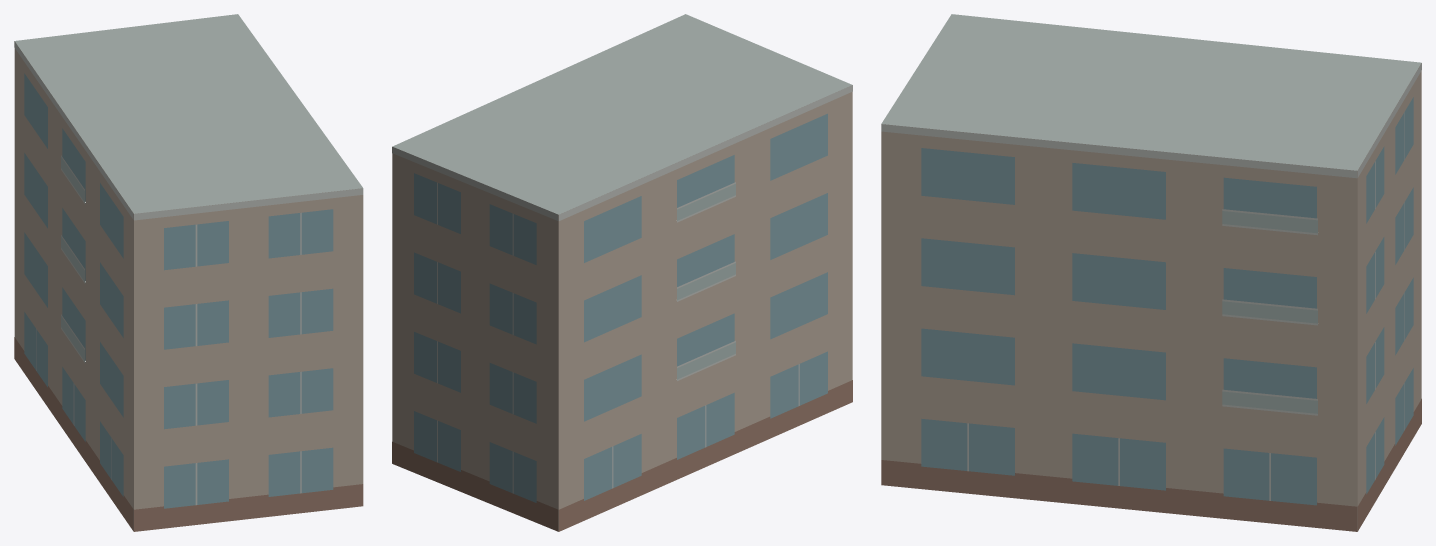
The model's file is survey-upis-32921176.glb.
The picture shows the model from 3 angles, left to right: view 1: azimuth 30°, elevation 25°; view 2: azimuth 150°, elevation 25°; view 3: azimuth 270°, elevation 25°; orthographic projection. The views are drawn at different scales.
Parts seen in each view (by area): view 1: survey-upis-32921176.tmp; view 2: survey-upis-32921176.tmp; view 3: survey-upis-32921176.tmp.
Part boxes in pixels (<box>): survey-upis-32921176.tmp: <box>14,14,363,531</box>; survey-upis-32921176.tmp: <box>392,14,852,531</box>; survey-upis-32921176.tmp: <box>881,14,1421,531</box>.
Size of the model in its own units: 10.91 by 11.7 by 15.89.
